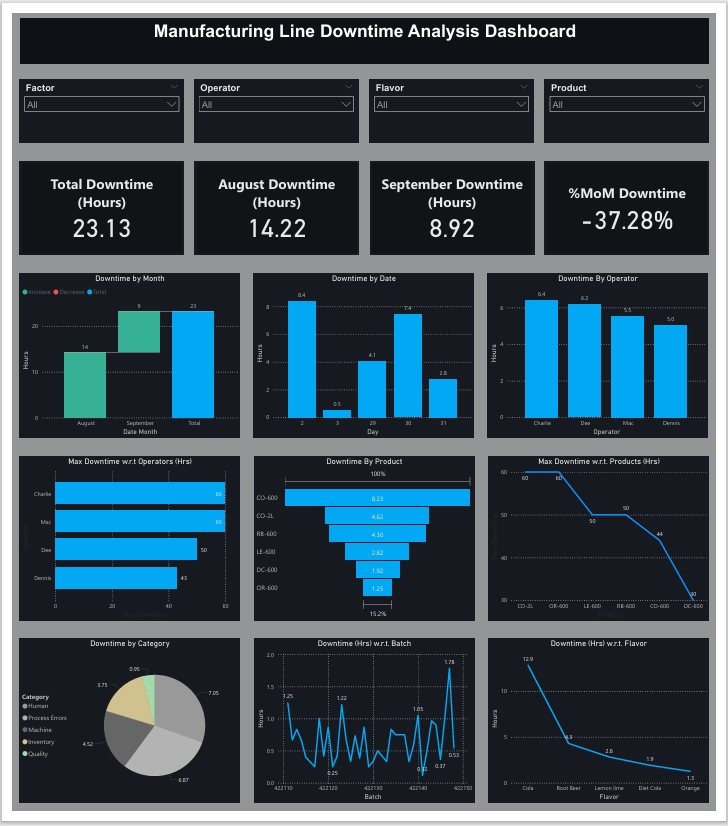

The page's visual inventory and layout, read from the dashboard file:
{"tool":"powerbi","page":{"name":"Page 1","canvas":[1500,1700],"ordinal":0},"visuals":[{"type":"cardVisual","fields":{"Data":["Date.Total Downtime (Hours)"]},"box":[16,316,350,200],"z":0},{"type":"waterfallChart","title":"Downtime by Month","fields":{"Category":["Date.Date.Variation.Date Hierarchy.Month"],"Y":["Date.Total Downtime (Hours)"]},"box":[16,555.3,470,350],"z":1000},{"type":"columnChart","title":"Downtime By Operator","fields":{"Y":["Date.Total Downtime (Hours)"],"Category":["Line productivity.Operator"]},"box":[1014,555.3,470,350],"z":2000},{"type":"funnel","title":"Downtime By Product","fields":{"Category":["Line productivity.Product"],"Y":["Date.Total Downtime (Hours)"]},"box":[516,944.7,470,350],"z":3000},{"type":"pieChart","title":"Downtime by Category","fields":{"Category":["Downtime factors.Category"],"Y":["Date.Total Downtime (Hours)"]},"box":[16,1334,470,350],"z":4000},{"type":"cardVisual","fields":{"Data":["Date.August Downtime (Hours)"]},"box":[389.3,316,350,200],"z":5000},{"type":"cardVisual","fields":{"Data":["Date.September Downtime (Hours)"]},"box":[762.7,316,350,200],"z":6000},{"type":"cardVisual","fields":{"Data":["Date.%MoM Downtime"]},"box":[1136,316,350,200],"z":7000},{"type":"lineChart","title":"Downtime (Hrs) w.r.t. Batch","fields":{"Category":["Line productivity.Batch"],"Y":["Date.Total Downtime (Hours)"]},"box":[516,1334,470,350],"z":8000},{"type":"lineChart","title":"Max Downtime w.r.t. Products (Hrs)","fields":{"Category":["Products.Product"],"Y":["Line downtime.Max Downtime"]},"box":[1016,944.7,470,350],"z":9000},{"type":"clusteredBarChart","title":"Max Downtime w.r.t Operators (Hrs)","fields":{"Category":["Line productivity.Operator"],"Y":["Line downtime.Max Downtime"]},"box":[16,944.7,470,350],"z":10000},{"type":"columnChart","title":"Downtime by Date","fields":{"Category":["Date.Date.Variation.Date Hierarchy.Day"],"Y":["Date.Total Downtime (Hours)"]},"box":[515,555.3,470,350],"z":11000},{"type":"lineChart","title":"Downtime (Hrs) w.r.t. Flavor","fields":{"Y":["Date.Total Downtime (Hours)"],"Category":["Products.Flavor"]},"box":[1016,1334,470,350],"z":13000},{"type":"slicer","fields":{"Values":["Line downtime.Factor"]},"box":[16,142,350,136],"z":13001},{"type":"slicer","fields":{"Values":["Line productivity.Operator"]},"box":[388,142,350,136],"z":13002},{"type":"slicer","fields":{"Values":["Products.Flavor"]},"box":[762,142,350,136],"z":13003},{"type":"slicer","fields":{"Values":["Products.Product"]},"box":[1136,142,350,136],"z":13004},{"type":"textbox","box":[18,12,1468,96],"z":13005}]}

Visuals, with their boxes in screenshot pixels (x1, y1, x2, y2), scaled from the page's 1500x1700 canvas onto the 728x826 screenshot:
cardVisual - Date.Total Downtime (Hours): [left=8, top=154, right=178, bottom=251]
"Downtime by Month" waterfallChart: [left=8, top=270, right=236, bottom=440]
"Downtime By Operator" columnChart: [left=492, top=270, right=720, bottom=440]
"Downtime By Product" funnel: [left=250, top=459, right=479, bottom=629]
"Downtime by Category" pieChart: [left=8, top=648, right=236, bottom=818]
cardVisual - Date.August Downtime (Hours): [left=189, top=154, right=359, bottom=251]
cardVisual - Date.September Downtime (Hours): [left=370, top=154, right=540, bottom=251]
cardVisual - Date.%MoM Downtime: [left=551, top=154, right=721, bottom=251]
"Downtime (Hrs) w.r.t. Batch" lineChart: [left=250, top=648, right=479, bottom=818]
"Max Downtime w.r.t. Products (Hrs)" lineChart: [left=493, top=459, right=721, bottom=629]
"Max Downtime w.r.t Operators (Hrs)" clusteredBarChart: [left=8, top=459, right=236, bottom=629]
"Downtime by Date" columnChart: [left=250, top=270, right=478, bottom=440]
"Downtime (Hrs) w.r.t. Flavor" lineChart: [left=493, top=648, right=721, bottom=818]
slicer - Line downtime.Factor: [left=8, top=69, right=178, bottom=135]
slicer - Line productivity.Operator: [left=188, top=69, right=358, bottom=135]
slicer - Products.Flavor: [left=370, top=69, right=540, bottom=135]
slicer - Products.Product: [left=551, top=69, right=721, bottom=135]
textbox: [left=9, top=6, right=721, bottom=52]
